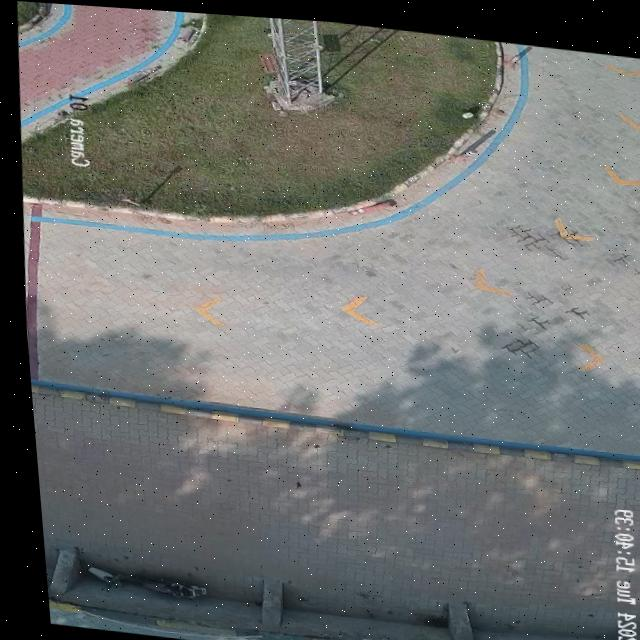No Car: (16, 1, 640, 640)
